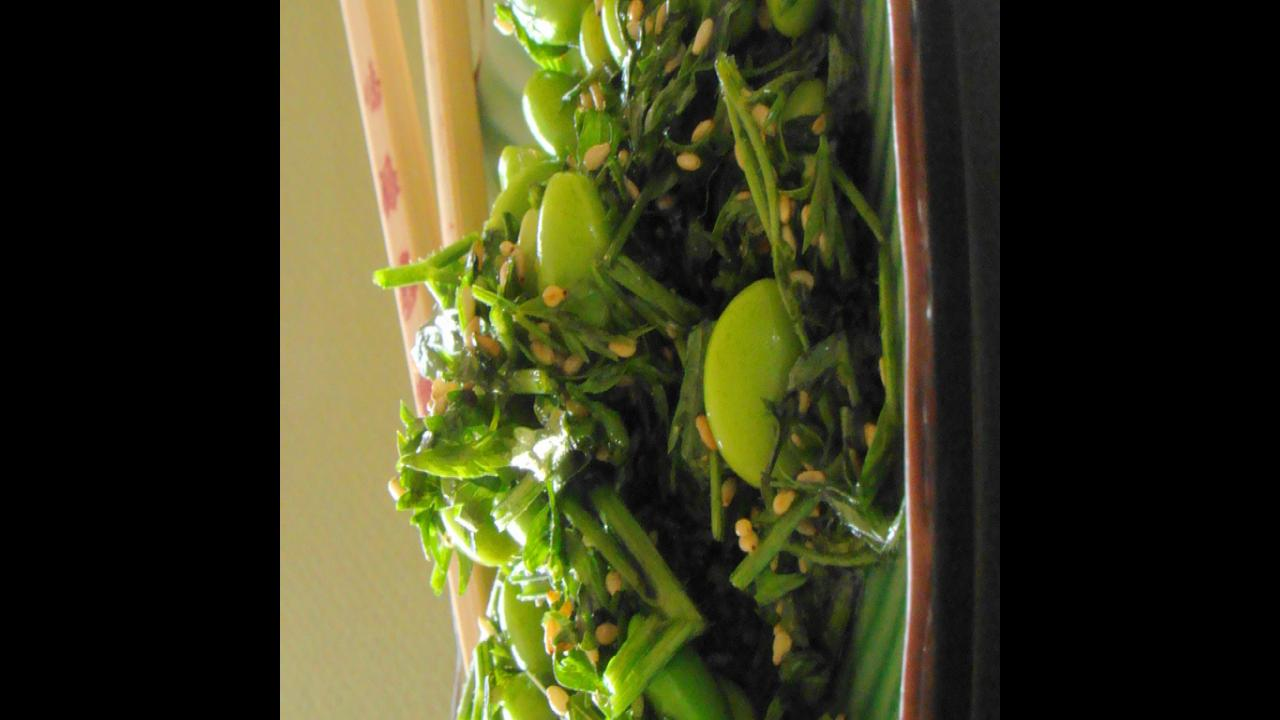chopstick: (319, 0, 579, 720)
